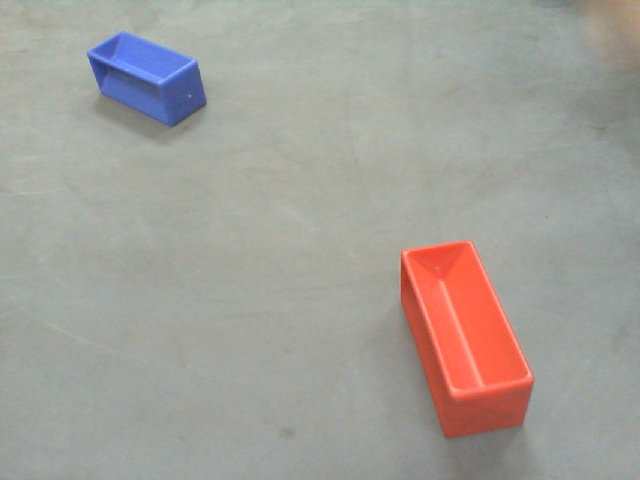BlueSample: (86, 27, 208, 128)
RedSample: (397, 233, 533, 442)
